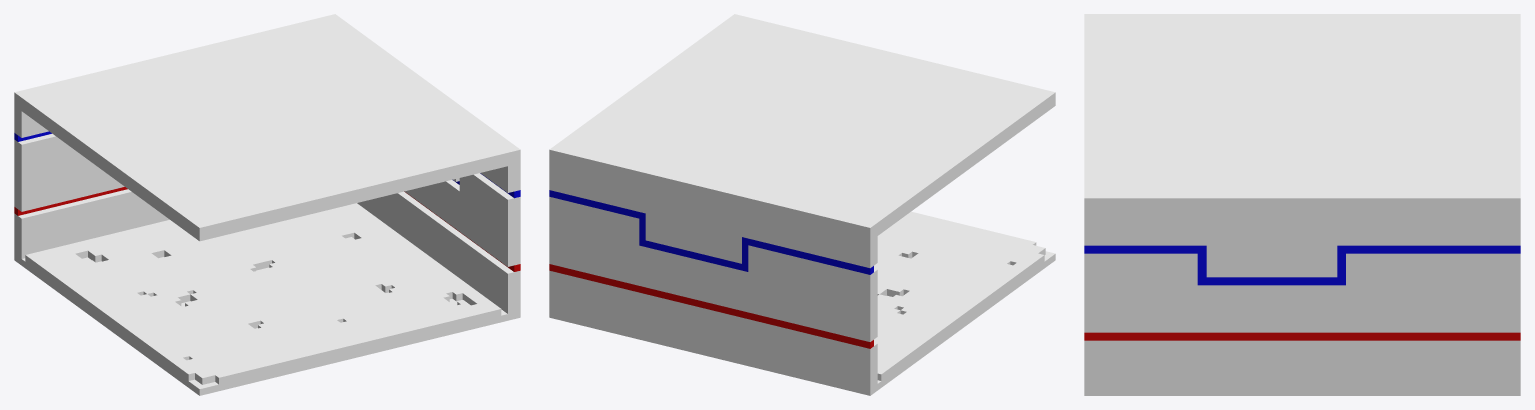
Rendered from corridorCornerLeft01_Roof.fbx.
The picture shows the model from 3 angles, left to right: view 1: azimuth 30°, elevation 25°; view 2: azimuth 150°, elevation 25°; view 3: azimuth 270°, elevation 25°; orthographic projection. The views are drawn at different scales.
Parts seen in each view (by area): view 1: ceiling1.003, floor1.006, wall_left1.008, wall_left1.007; view 2: wall_left1.007, ceiling1.003, floor1.006, wall_left1.008; view 3: wall_left1.008, ceiling1.003, wall_left1.007.
Part boxes in pixels (x1,y1,x2,y2): ceiling1.003: (21,22,507,241); floor1.006: (21,203,507,395); wall_left1.008: (330,19,520,320); wall_left1.007: (14,14,342,265); wall_left1.007: (549,144,877,395); ceiling1.003: (570,17,1055,235); floor1.006: (874,211,1055,390); wall_left1.008: (557,14,746,147); wall_left1.008: (1084,191,1502,395); ceiling1.003: (1084,14,1502,190); wall_left1.007: (1503,14,1520,395).
Size of the model in its own units: 4 by 2 by 4.
4 materials, 4 textured.
